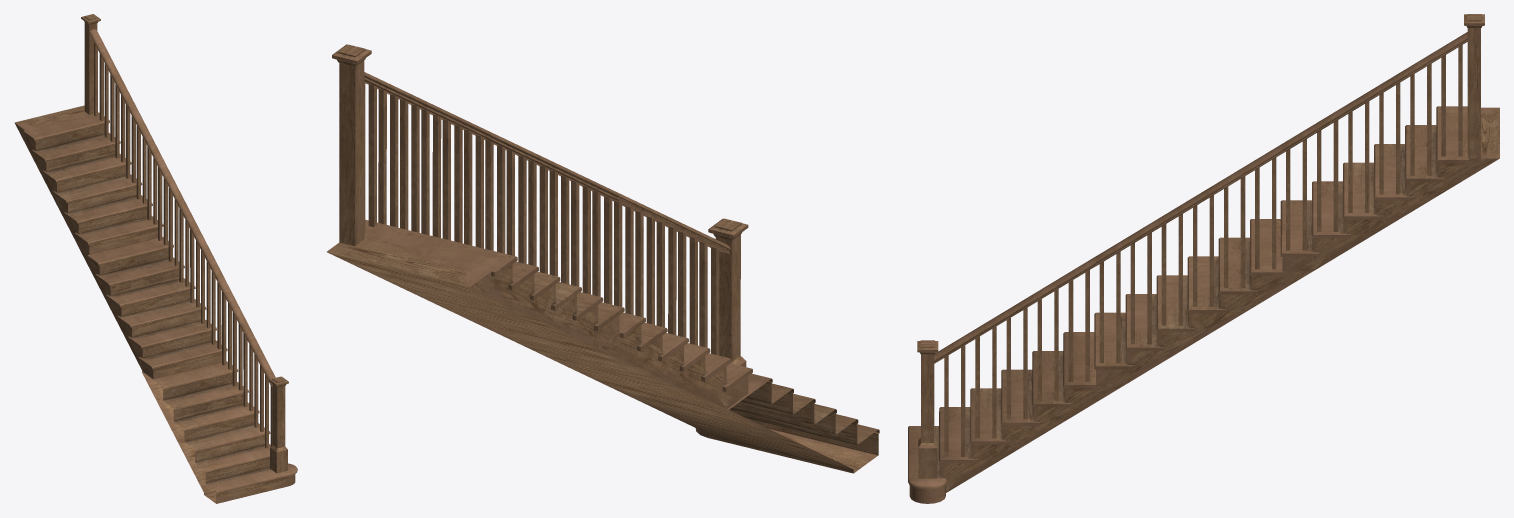
File: modular_wooden_stairs_-_game_ready_asset.glb
The picture shows the model from 3 angles, left to right: view 1: azimuth 30°, elevation 25°; view 2: azimuth 150°, elevation 25°; view 3: azimuth 270°, elevation 25°; orthographic projection. The views are drawn at different scales.
Visible parts, largest first — view 1: SM_Stairs_11.002, SM_Stairs_02.002, SM_Stairs_08.008; view 2: SM_Stairs_11.002, SM_Stairs_02.002, SM_Stairs_08.008; view 3: SM_Stairs_11.002, SM_Stairs_02.002, SM_Stairs_08.008.
Boxes of the visible parts, x1=… form: SM_Stairs_11.002: x1=14, y1=14, x2=163, y2=254; SM_Stairs_02.002: x1=142, y1=277, x2=297, y2=503; SM_Stairs_08.008: x1=79, y1=153, x2=227, y2=379; SM_Stairs_11.002: x1=327, y1=44, x2=624, y2=347; SM_Stairs_02.002: x1=584, y1=192, x2=879, y2=473; SM_Stairs_08.008: x1=455, y1=131, x2=752, y2=409; SM_Stairs_11.002: x1=1280, y1=14, x2=1499, y2=271; SM_Stairs_02.002: x1=908, y1=256, x2=1126, y2=503; SM_Stairs_08.008: x1=1094, y1=143, x2=1312, y2=383.
Size of the model in its own units: 1.17 by 4.23 by 4.76.
1 material, 1 textured.
